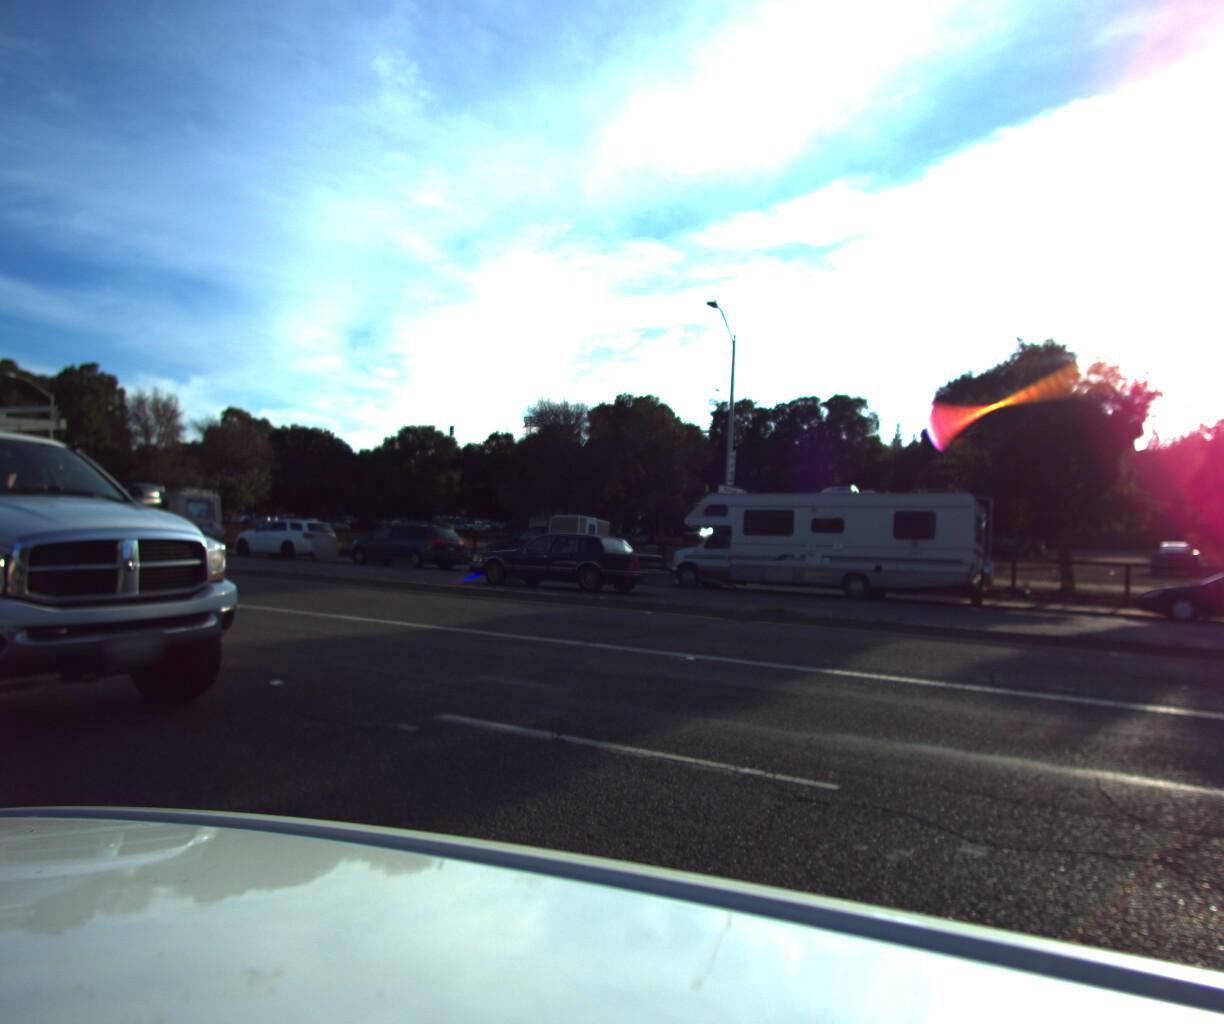car: (0, 336, 285, 801), (458, 522, 675, 594), (473, 503, 651, 582), (1133, 552, 1224, 635), (340, 513, 469, 567), (230, 513, 341, 560)
other_vehicle: (662, 474, 1004, 612), (67, 478, 238, 562)
